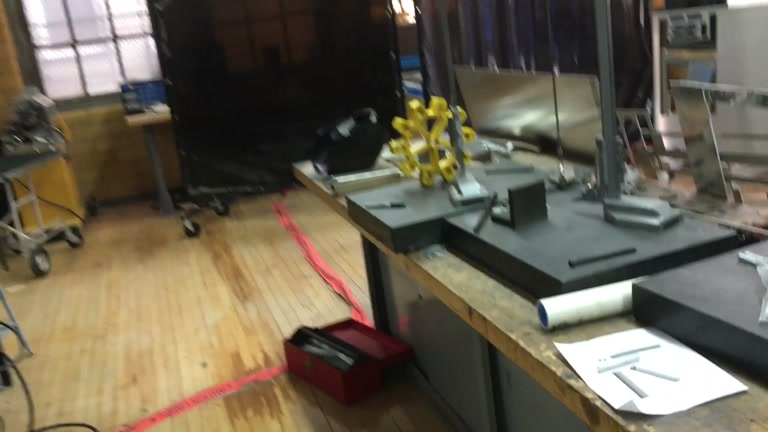gear: (388, 93, 477, 189)
